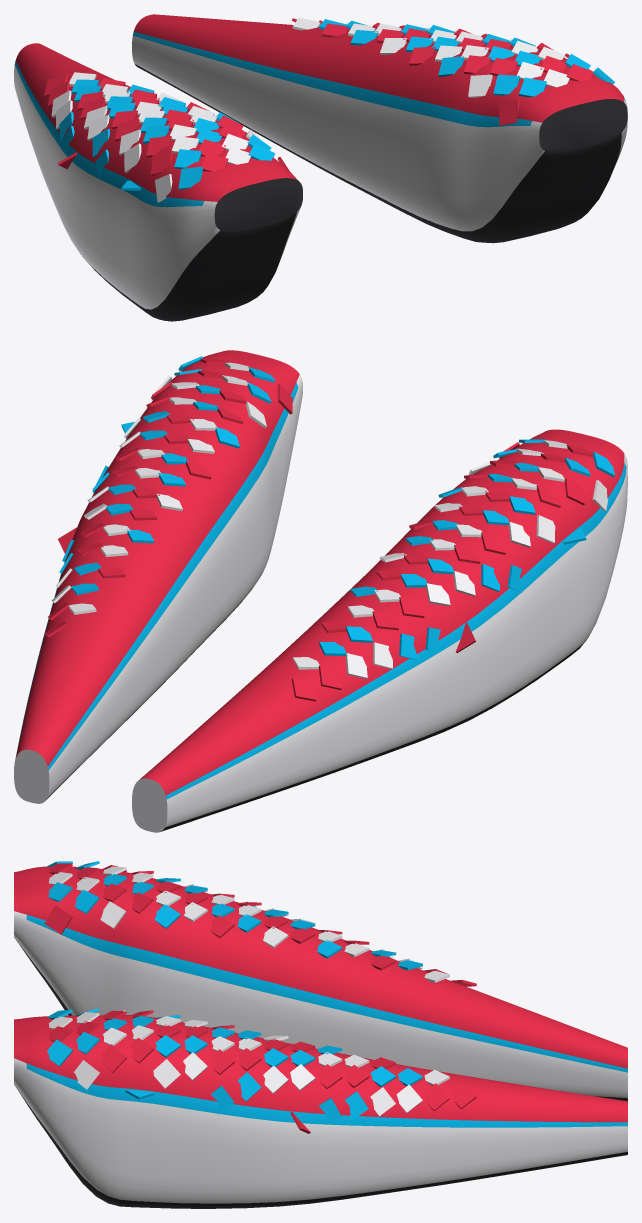
The model's file is scales.glb.
The picture shows the model from 3 angles, top to bottom: view 1: azimuth 30°, elevation 25°; view 2: azimuth 150°, elevation 25°; view 3: azimuth 270°, elevation 25°; orthographic projection. The views are drawn at different scales.
Parts seen in each view (by area): view 1: Sidepods_scales; view 2: Sidepods_scales; view 3: Sidepods_scales.
Boxes of the visible parts, bbox=[...] form: Sidepods_scales: bbox=[14, 14, 627, 321]; Sidepods_scales: bbox=[14, 350, 627, 832]; Sidepods_scales: bbox=[14, 861, 627, 1208].
Size of the model in its own units: 1.58 by 0.6269 by 1.94.
